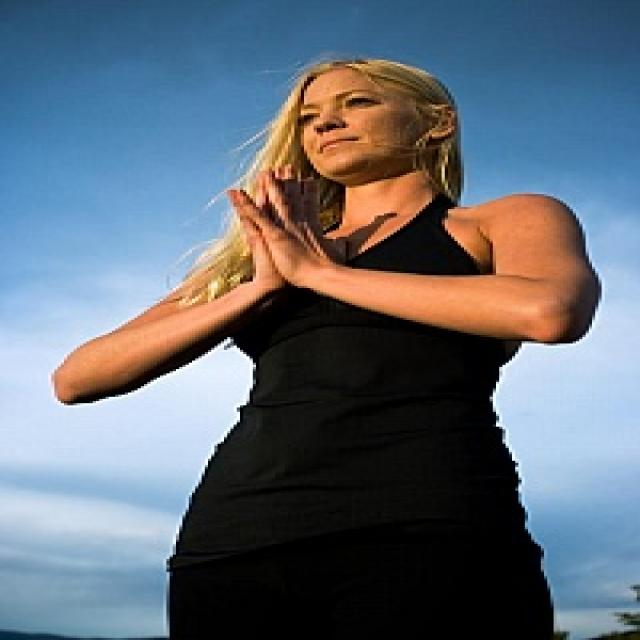Eyes: (288, 93, 396, 130)
